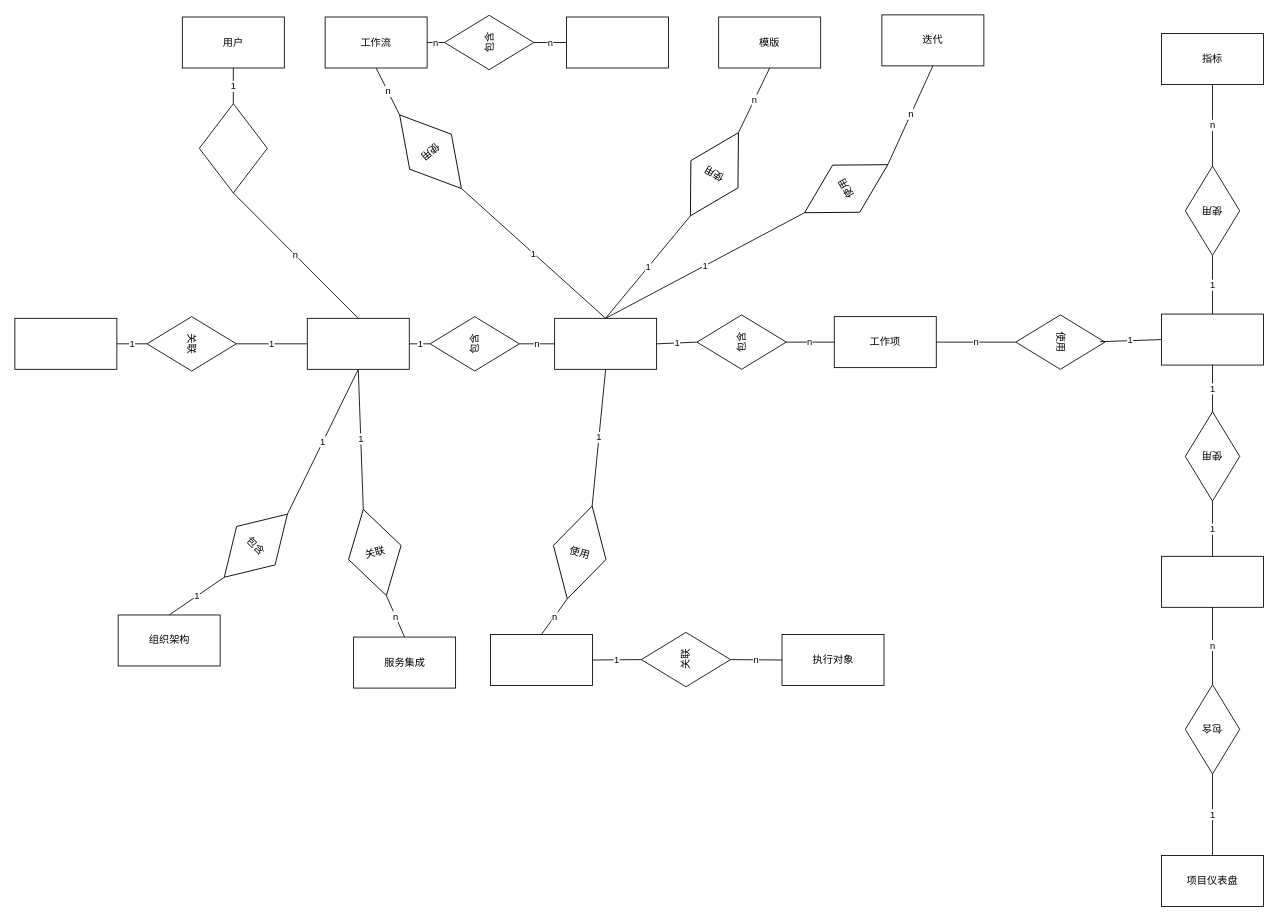
Some shapes in this 1278 by 921 pixel diagram are drawn without their labels. The centre of each missing label's shape, as x and y in pixels:
"企业微信" goes at point 65,343.
"公司" goes at point 357,343.
"加入" goes at point 232,148.
"工作流状态" goes at point 617,42.
"统计" goes at point 1212,339.
"触发对象" goes at point 541,660.
"项目" goes at point 605,343.
"项目仪表盘卡片" goes at point 1212,581.
